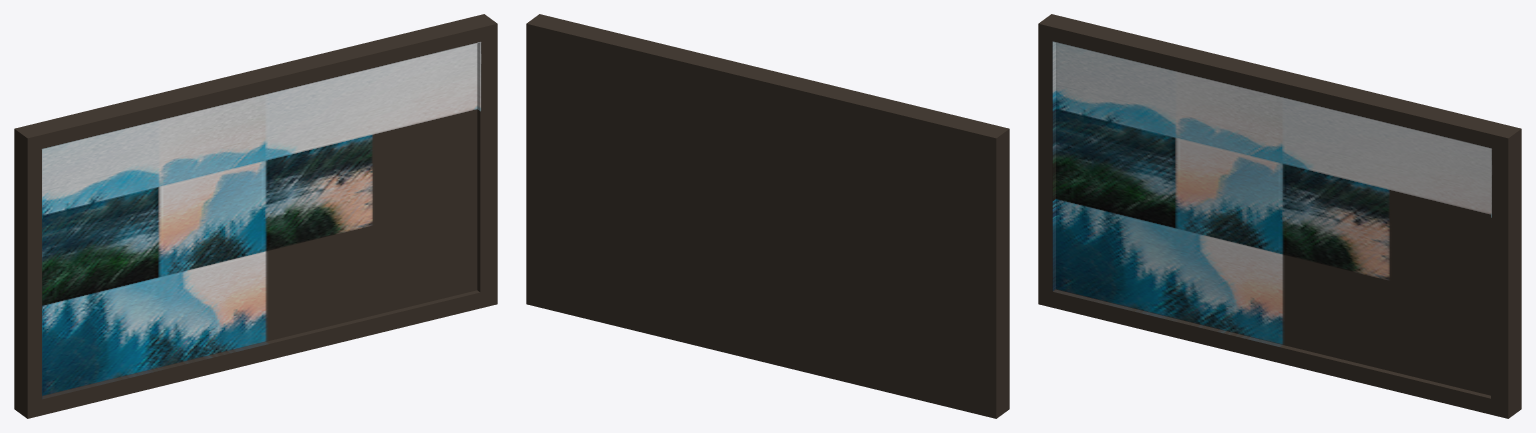
The model's file is lukisan lantai 1 acak.fbx.
The picture shows the model from 3 angles, left to right: view 1: azimuth 30°, elevation 25°; view 2: azimuth 150°, elevation 25°; view 3: azimuth 330°, elevation 25°; orthographic projection.
Parts seen in each view (by area): view 1: Cube; view 2: Cube; view 3: Cube.
Part boxes in pixels (x1,y1,x2,y2): Cube: [14, 14, 497, 418]; Cube: [526, 14, 1009, 418]; Cube: [1038, 14, 1521, 418].
Bounding box in the file's own units: 436 × 249 × 21.32.
1 material, 1 textured.
